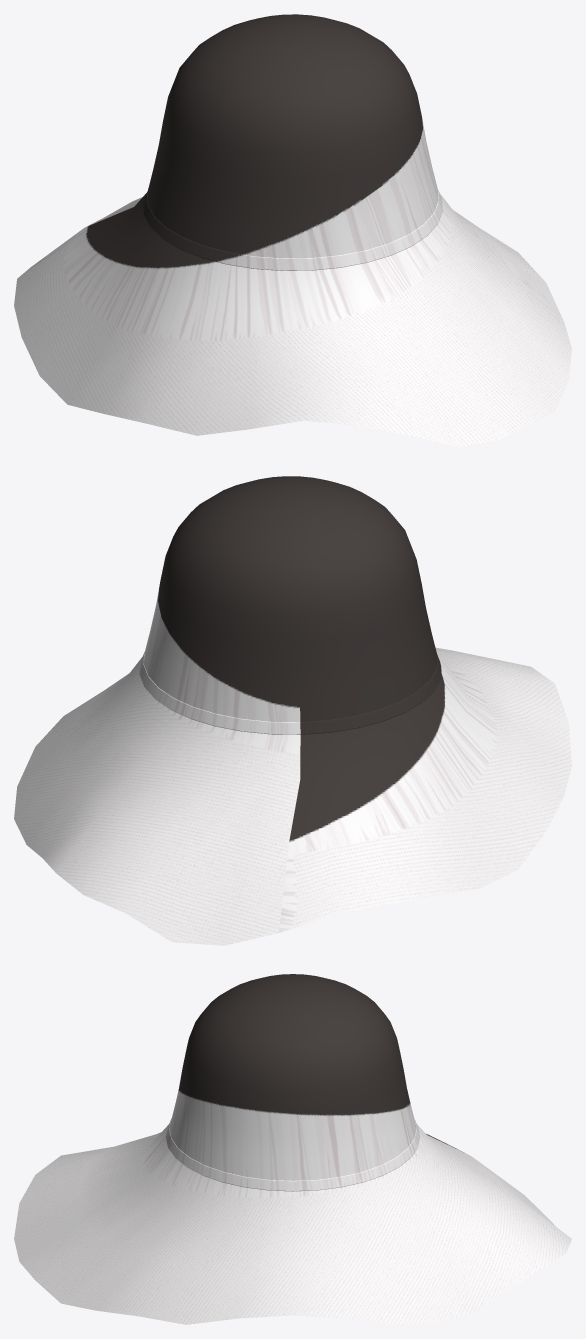
3 renders of one model, top to bottom at view 1: azimuth 30°, elevation 25°; view 2: azimuth 150°, elevation 25°; view 3: azimuth 270°, elevation 25°, orthographic. The views are drawn at different scales.
Parts seen in each view (by area): view 1: sunday_hat__0; view 2: sunday_hat__0; view 3: sunday_hat__0.
Boxes of the visible parts, x1,y1,x2,y2 form: sunday_hat__0: (14,14,571,447); sunday_hat__0: (14,476,571,945); sunday_hat__0: (14,974,571,1324).
Size of the model in its own units: 27348 by 18455 by 34598.
